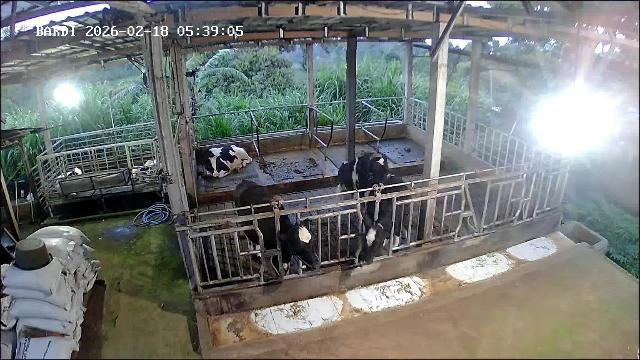mounting: (333, 143, 390, 219)
